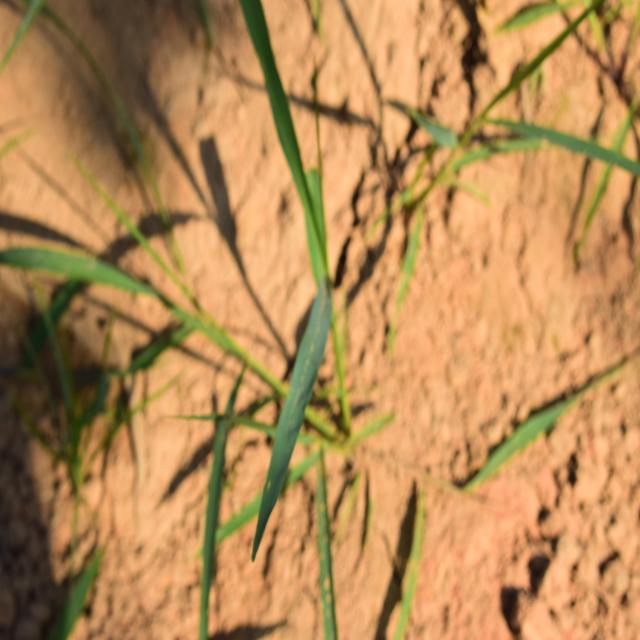green_foxtail: (212, 36, 370, 524), (9, 214, 259, 512)
